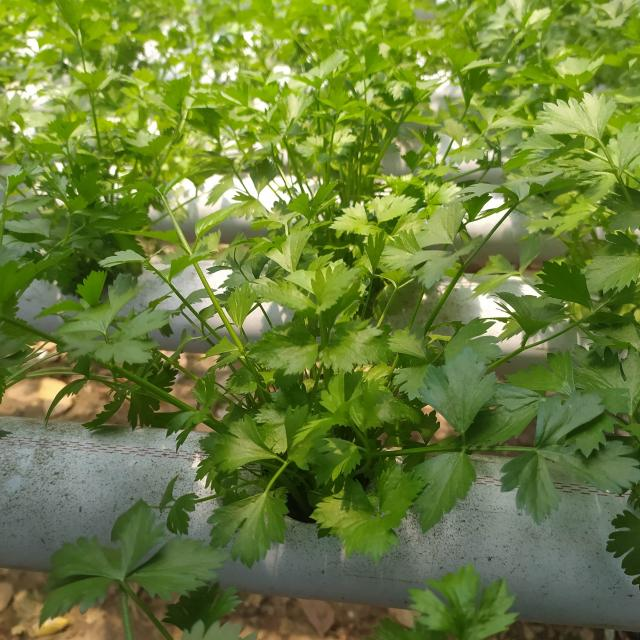Wet Waste: (145, 202, 620, 532), (194, 17, 624, 185), (21, 15, 133, 302)
